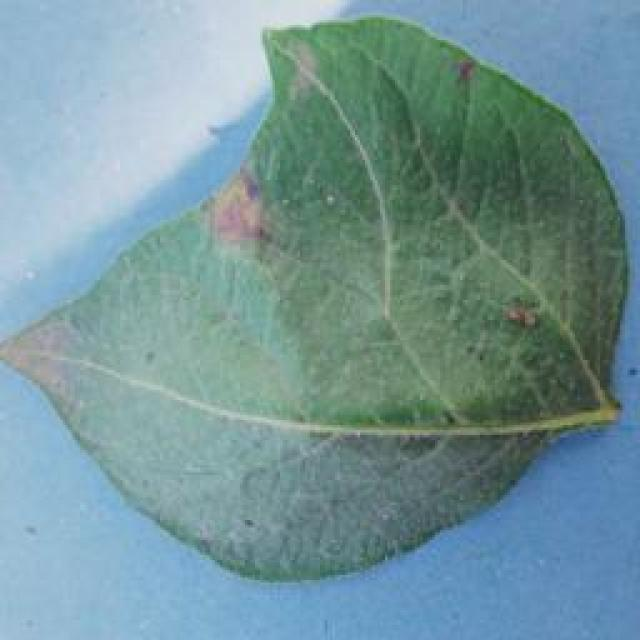Potato_Late_Blight: (9, 14, 630, 586)
